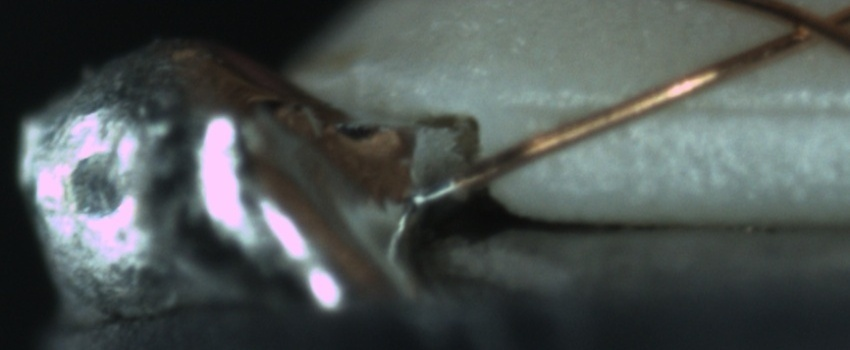CL: (766, 3, 846, 53)
DL: (537, 76, 850, 143)
TS: (412, 175, 458, 206)
